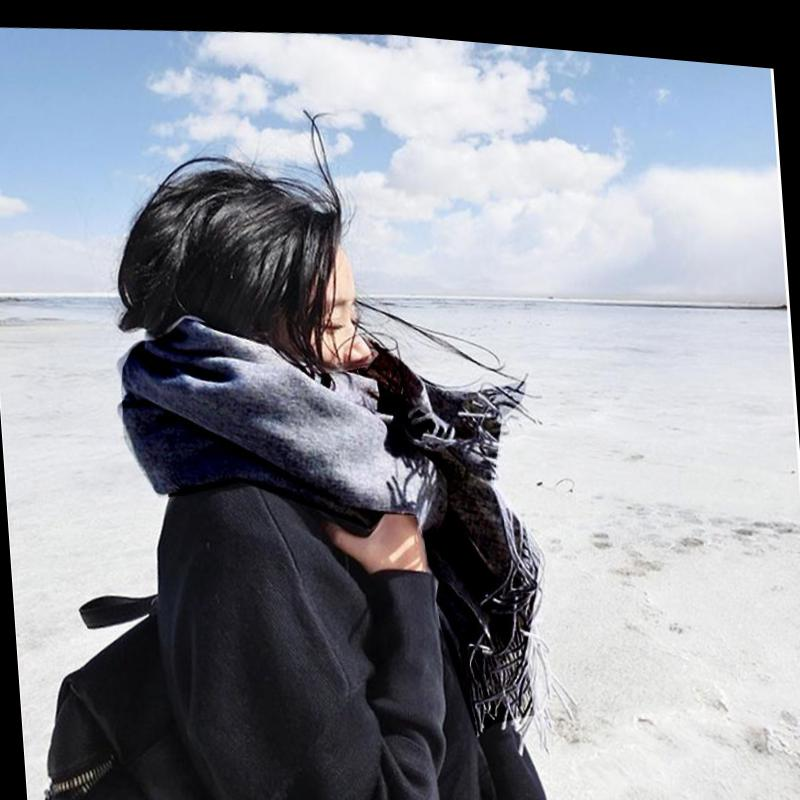WRONG: (254, 255, 380, 420)
